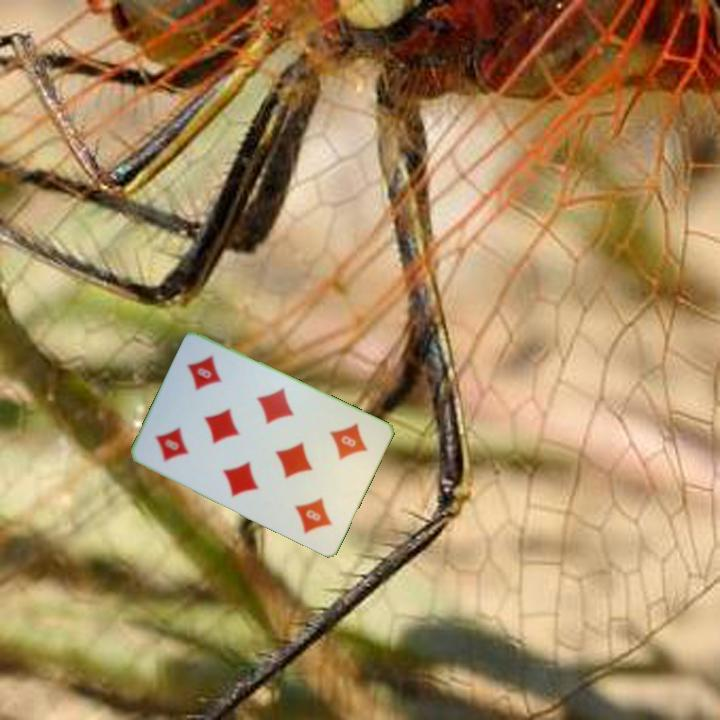d_8.png: (304, 407, 383, 491), (139, 396, 218, 479)
